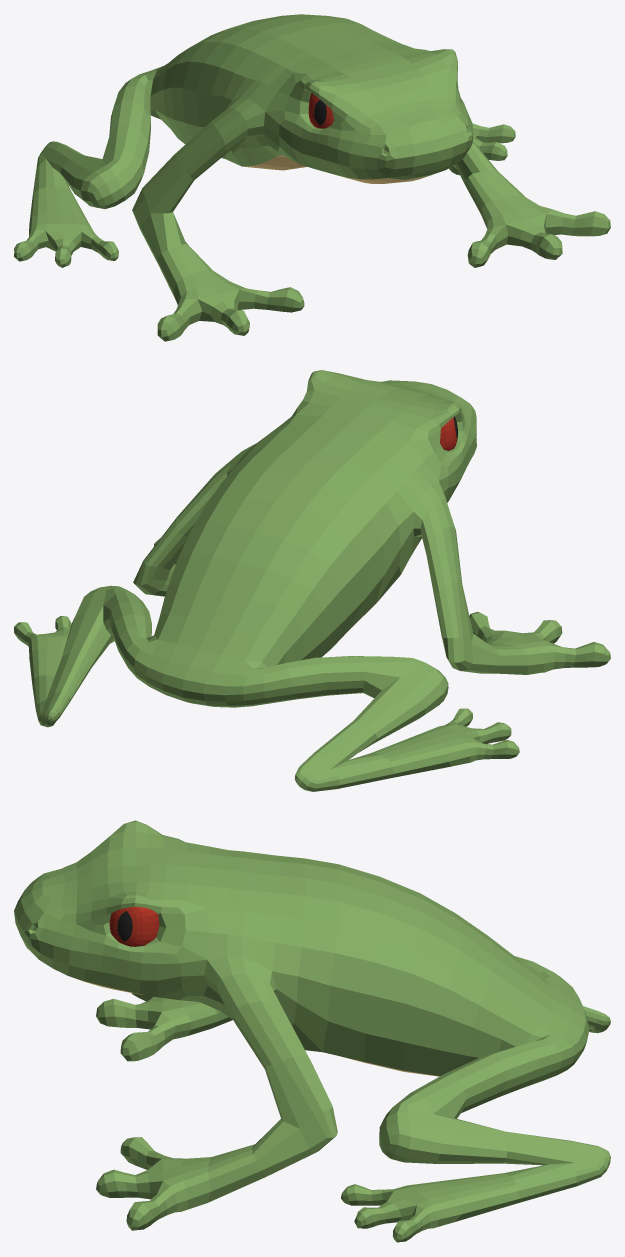
The model's file is frog1.glb.
The picture shows the model from 3 angles, top to bottom: view 1: azimuth 30°, elevation 25°; view 2: azimuth 150°, elevation 25°; view 3: azimuth 270°, elevation 25°; orthographic projection. The views are drawn at different scales.
Parts seen in each view (by area): view 1: Frog; view 2: Frog; view 3: Frog.
Part boxes in pixels (<box>): Frog: <box>14,14,610,341</box>; Frog: <box>14,370,610,791</box>; Frog: <box>14,820,610,1242</box>.
Size of the model in its own units: 3.5 by 1.5 by 3.21.
